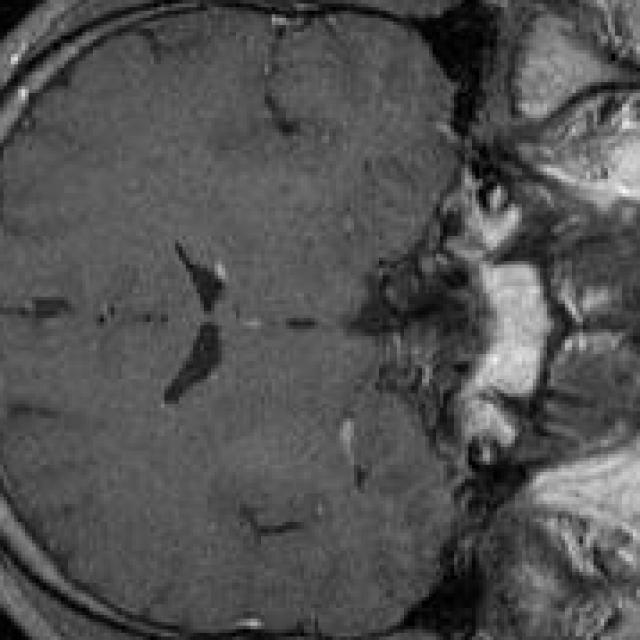pituitary: (458, 182, 554, 472)
